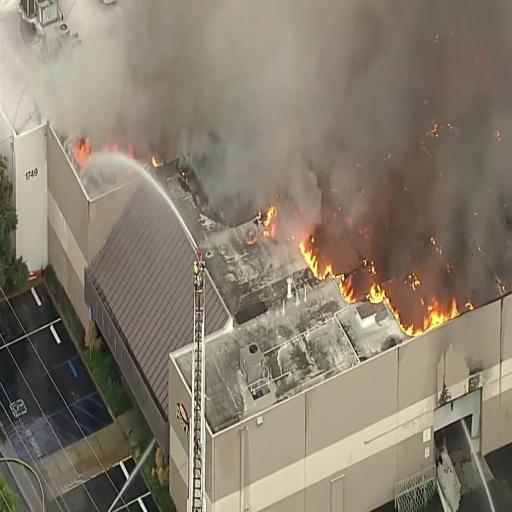smoke: (254, 0, 470, 157)
